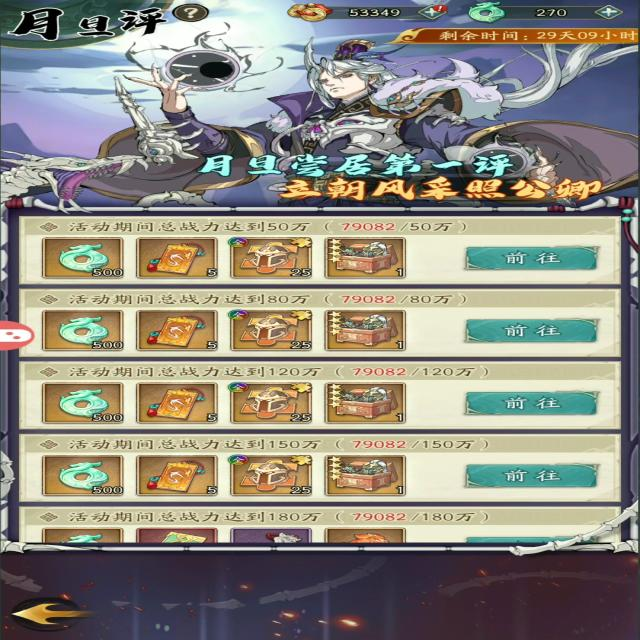hint-reddot: (430, 1, 447, 14)
operation-back: (6, 600, 107, 628)
operation-confirm: (448, 458, 614, 491), (458, 314, 597, 349), (454, 390, 606, 421), (458, 245, 604, 275)
operation-rule: (164, 1, 213, 23)
ref-buytext: (39, 502, 506, 530), (26, 217, 446, 241), (38, 291, 498, 311), (45, 363, 484, 382), (32, 436, 476, 452)
